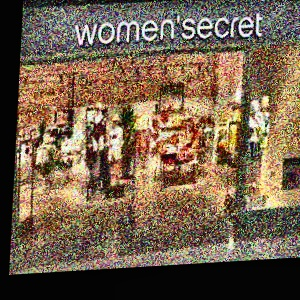women_secret: (254, 0, 297, 16)
